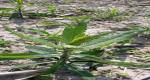osot: (1, 20, 150, 80)
